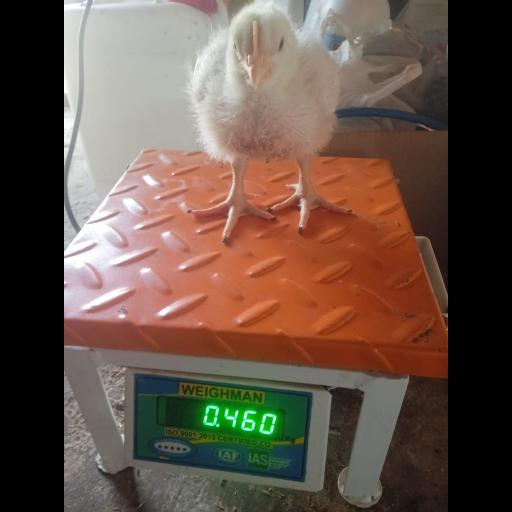chick: (189, 8, 348, 255)
